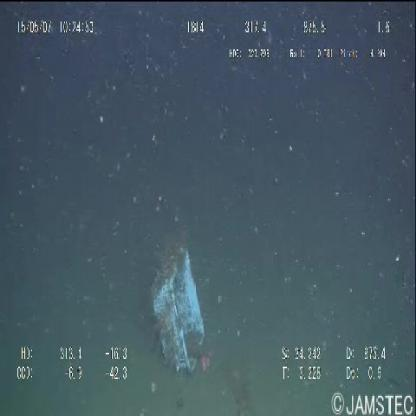Rác: (150, 247, 206, 378)
